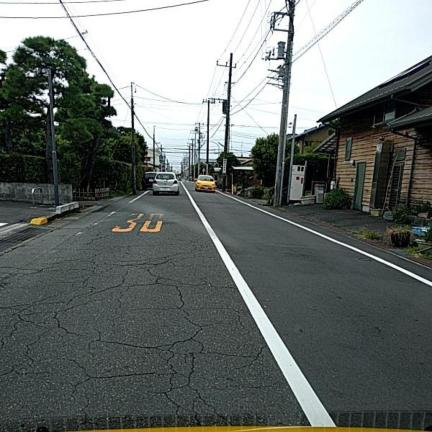Road: (0, 184, 431, 429)
